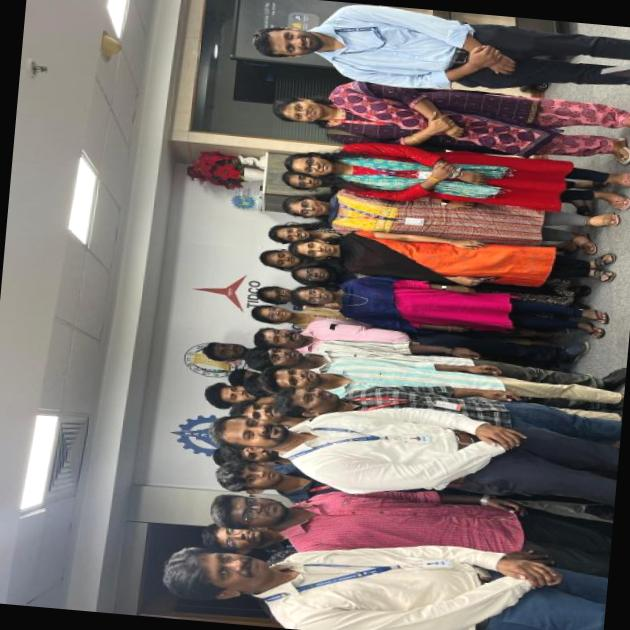there is a person: (153, 527, 592, 630), (270, 393, 622, 499), (336, 1, 608, 97), (212, 469, 454, 551), (314, 323, 546, 408), (345, 264, 510, 342), (282, 138, 428, 226), (340, 80, 501, 153), (338, 217, 492, 279)
